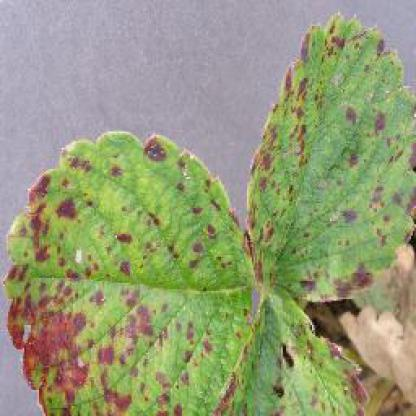leaf scorch: (1, 10, 414, 414)
